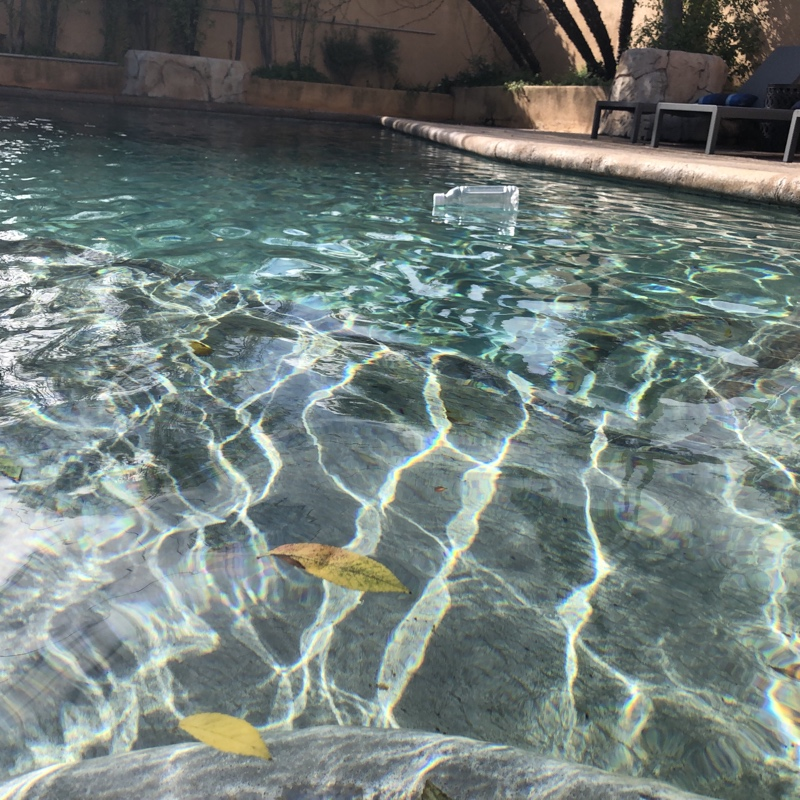Plastic Bottle: (428, 183, 517, 223)
